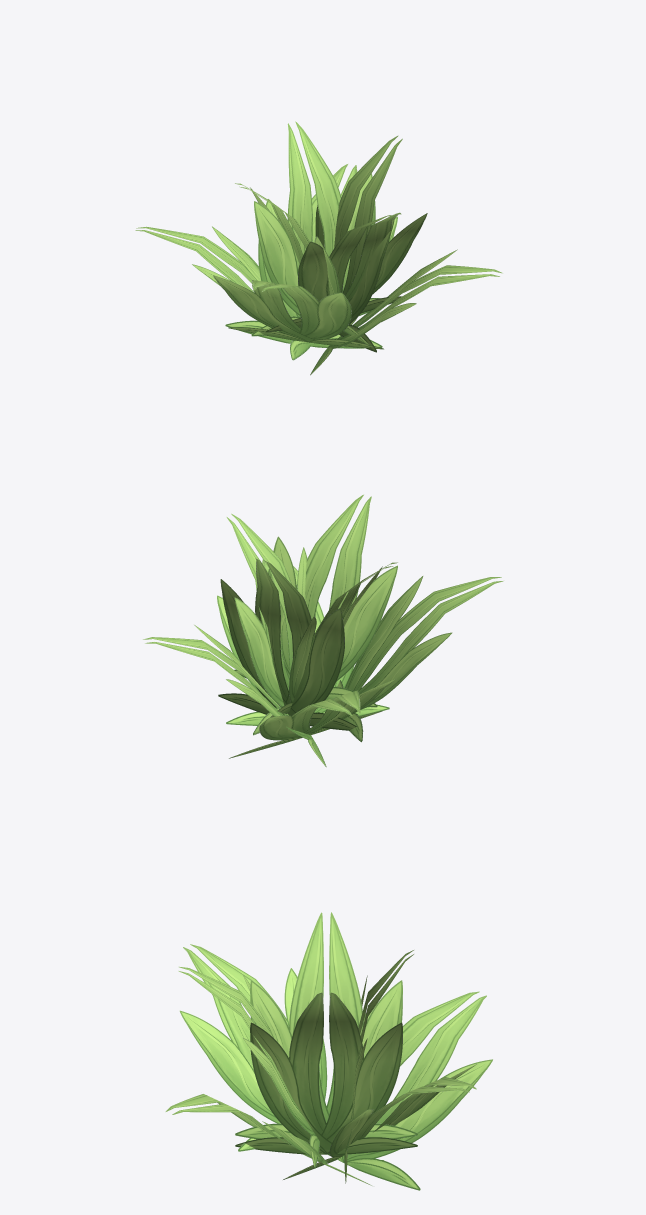
Rendered from SmallGrass_FULL_Model_v001.fbx.
The picture shows the model from 3 angles, top to bottom: view 1: azimuth 30°, elevation 25°; view 2: azimuth 150°, elevation 25°; view 3: azimuth 270°, elevation 25°; orthographic projection. The views are drawn at different scales.
Visible parts, largest first — view 1: SmallGrassPlane1 (×2), SmallGrassPlane3 (×2), SmallGrassPlane2 (×2), SmallGrassPlane4 (×2); view 2: SmallGrassPlane1 (×2), SmallGrassPlane3 (×2), SmallGrassPlane2 (×2), SmallGrassPlane4 (×2); view 3: SmallGrassPlane4 (×2), SmallGrassPlane2 (×2), SmallGrassPlane1 (×2), SmallGrassPlane3 (×2).
Part boxes in pixels (x1,y1,x2,y2): SmallGrassPlane1 (×2): (135,121,379,360); SmallGrassPlane3 (×2): (265,212,502,375); SmallGrassPlane2 (×2): (213,183,383,349); SmallGrassPlane4 (×2): (225,135,402,352); SmallGrassPlane1 (×2): (218,558,396,758); SmallGrassPlane3 (×2): (217,494,397,725); SmallGrassPlane2 (×2): (270,562,503,742); SmallGrassPlane4 (×2): (143,513,326,767); SmallGrassPlane4 (×2): (235,992,476,1179); SmallGrassPlane2 (×2): (179,912,417,1151); SmallGrassPlane1 (×2): (328,950,492,1190); SmallGrassPlane3 (×2): (165,966,371,1185).
Size of the model in its own units: 89.57 by 47.31 by 90.35.
